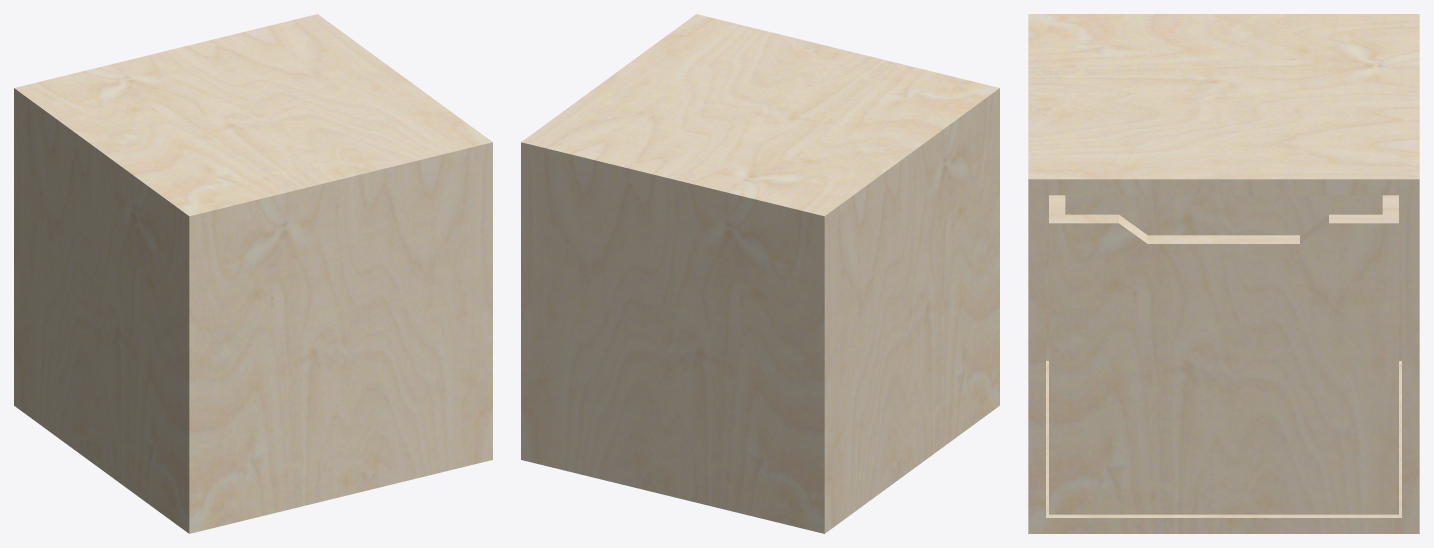
Rendered from Base shelf Drawer.fbx.
3 renders of one model, left to right at view 1: azimuth 30°, elevation 25°; view 2: azimuth 150°, elevation 25°; view 3: azimuth 270°, elevation 25°, orthographic. The views are drawn at different scales.
Visible parts, largest first — view 1: Shelf TL.002, Shelf BL.002, Shelf L.002, Shelf TR.002, Shelt T.002, Shelf B.002, Shelf BR.002, Shelf Center.001, Shelf R.002; view 2: Shelf TR.002, Shelf BR.002, Shelf R.002, Shelf TL.002, Shelt T.002, Shelf B.002, Shelf BL.002, Shelf Center.001, Shelf L.002; view 3: Shelf TL.002, Shelf TR.002, Shelt T.002, Shelf Center.001, Shelf L.002, Shelf R.002, Shelf BL.002, Shelf BR.002, Shelf B.002.
Part boxes in pixels (box(x1,y1,x2,y2)): Shelf TL.002: box(131, 99, 492, 321); Shelf BL.002: box(131, 354, 492, 533); Shelf L.002: box(131, 248, 492, 427); Shelf TR.002: box(14, 14, 375, 236); Shelt T.002: box(72, 57, 433, 278); Shelf B.002: box(72, 343, 130, 490); Shelf BR.002: box(14, 300, 72, 448); Shelf Center.001: box(72, 237, 130, 384); Shelf R.002: box(14, 194, 72, 342); Shelf TR.002: box(521, 99, 882, 321); Shelf BR.002: box(521, 354, 882, 533); Shelf R.002: box(521, 248, 882, 427); Shelf TL.002: box(638, 14, 999, 236); Shelt T.002: box(580, 57, 941, 278); Shelf B.002: box(883, 343, 941, 490); Shelf BL.002: box(941, 300, 999, 448); Shelf Center.001: box(883, 237, 941, 384); Shelf L.002: box(941, 194, 999, 342); Shelf TL.002: box(1028, 14, 1158, 297); Shelf TR.002: box(1289, 14, 1419, 297); Shelt T.002: box(1158, 14, 1289, 297); Shelf Center.001: box(1158, 195, 1289, 415); Shelf L.002: box(1028, 195, 1158, 415); Shelf R.002: box(1289, 195, 1419, 415); Shelf BL.002: box(1028, 258, 1158, 533); Shelf BR.002: box(1289, 258, 1419, 533); Shelf B.002: box(1158, 415, 1289, 533).
Bounding box in the file's own units: 200 × 200 × 200.
